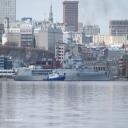Portanaves: (10, 30, 115, 83)
